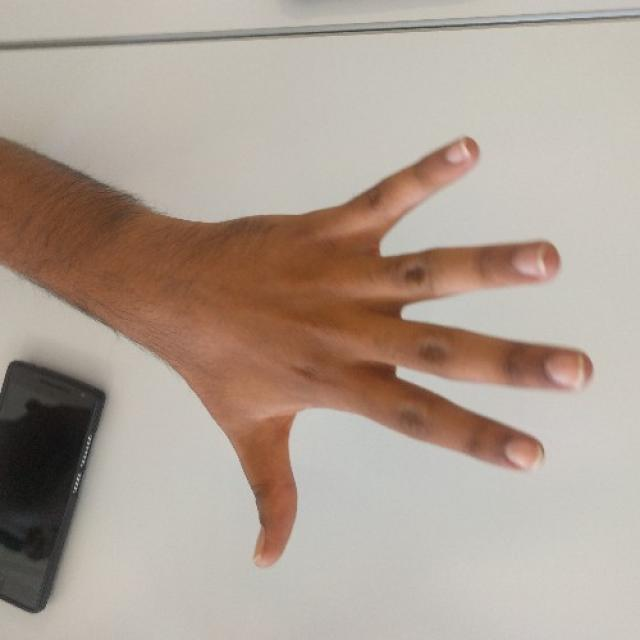paper: (213, 136, 596, 568)
